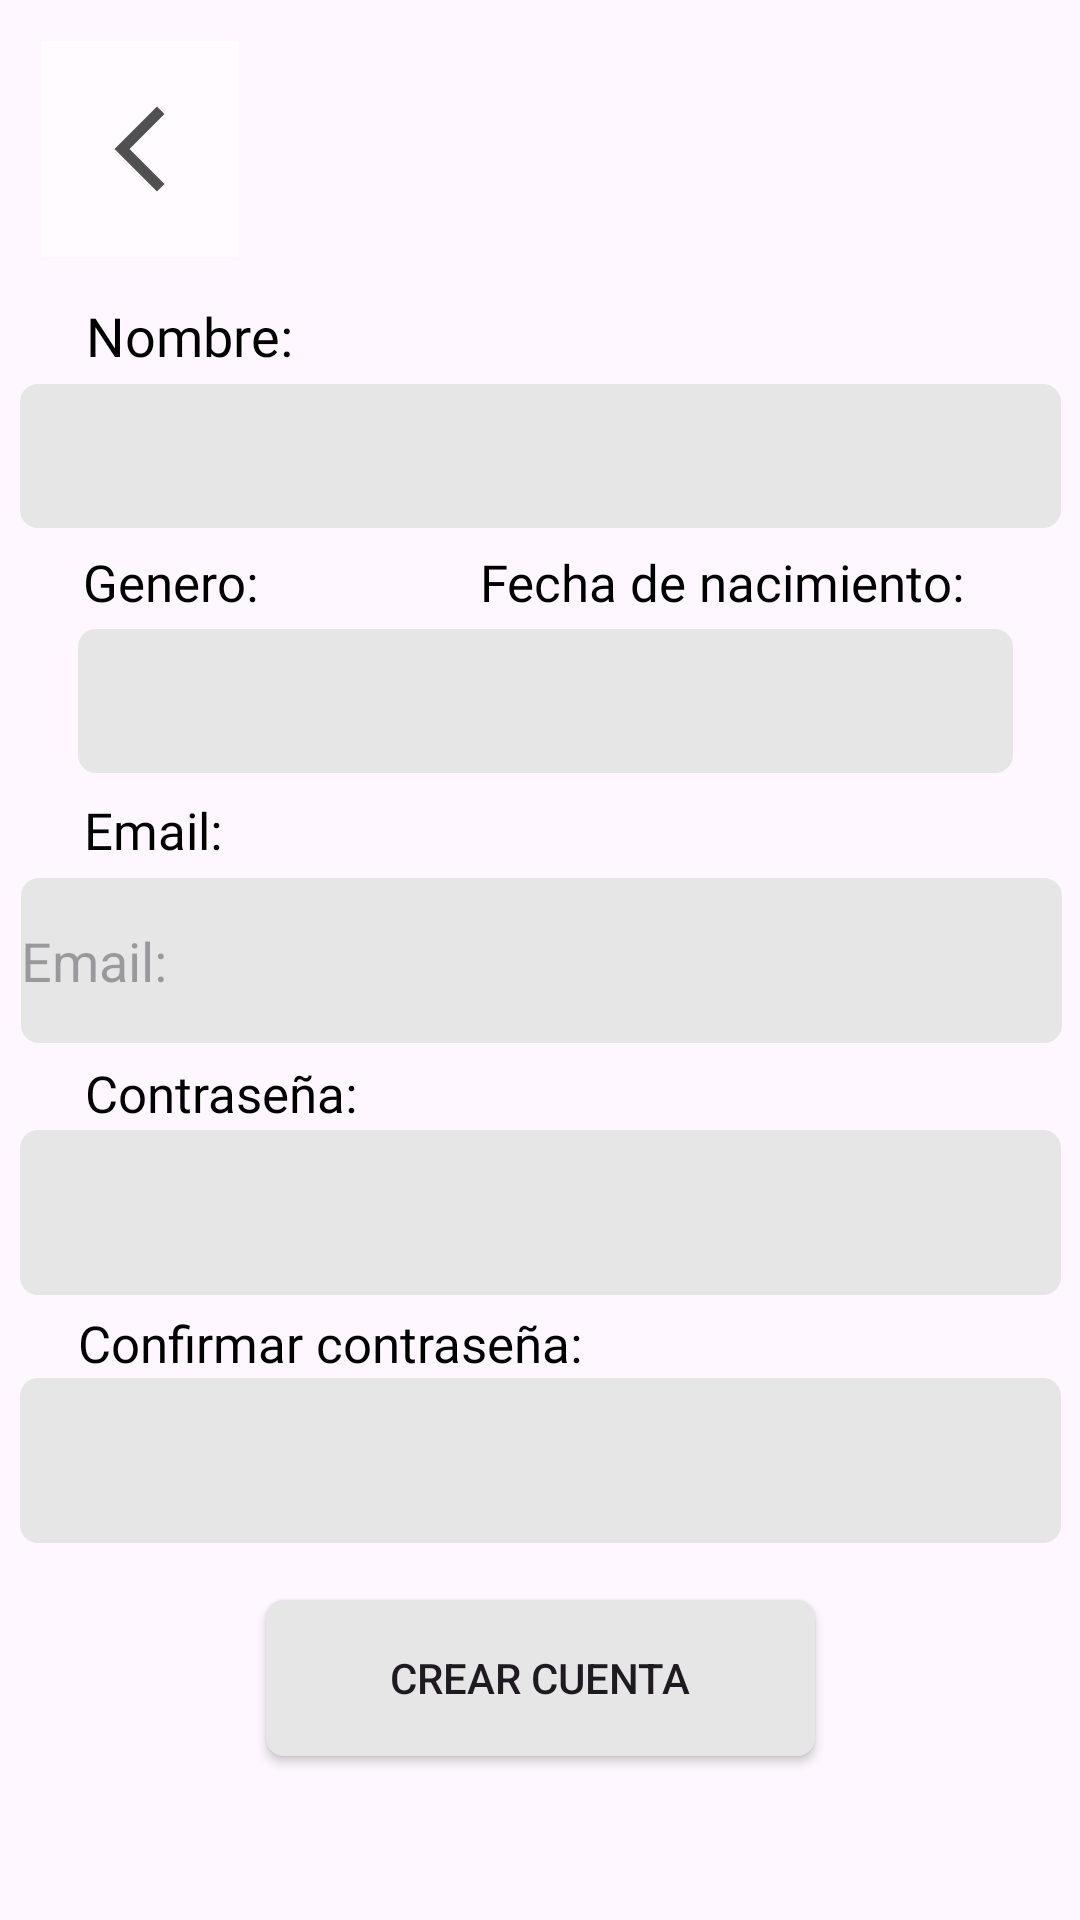

Screen size 1080×1920. Icon name, then its center in pixels as point (x, y):
atras: point (139, 149)
